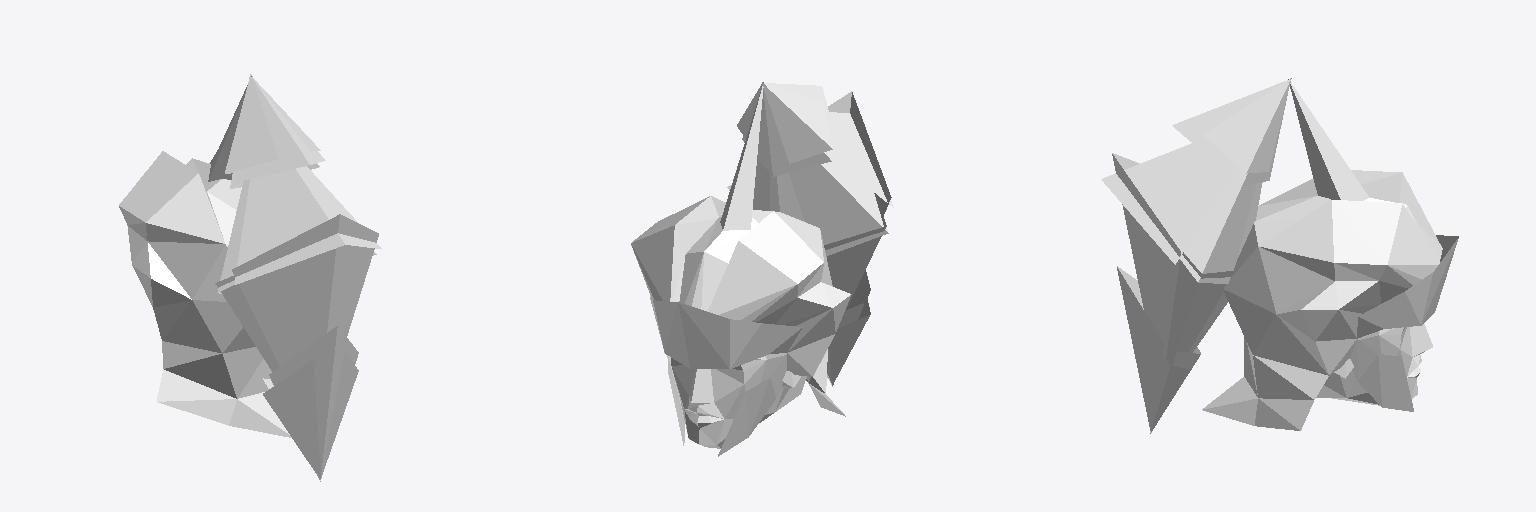
The model's file is 0_kn_helmet_17.obj.
The picture shows the model from 3 angles: view 1: azimuth 30°, elevation 25°; view 2: azimuth 150°, elevation 25°; view 3: azimuth 270°, elevation 25°; orthographic projection.
Parts seen in each view (by area): view 1: defaultobject; view 2: defaultobject; view 3: defaultobject.
Part boxes in pixels (x1,y1,x2,y2): defaultobject: (119,74,381,481); defaultobject: (631,82,893,456); defaultobject: (1101,78,1458,433).
Bounding box in the file's own units: 7.35 × 13.26 × 12.07.